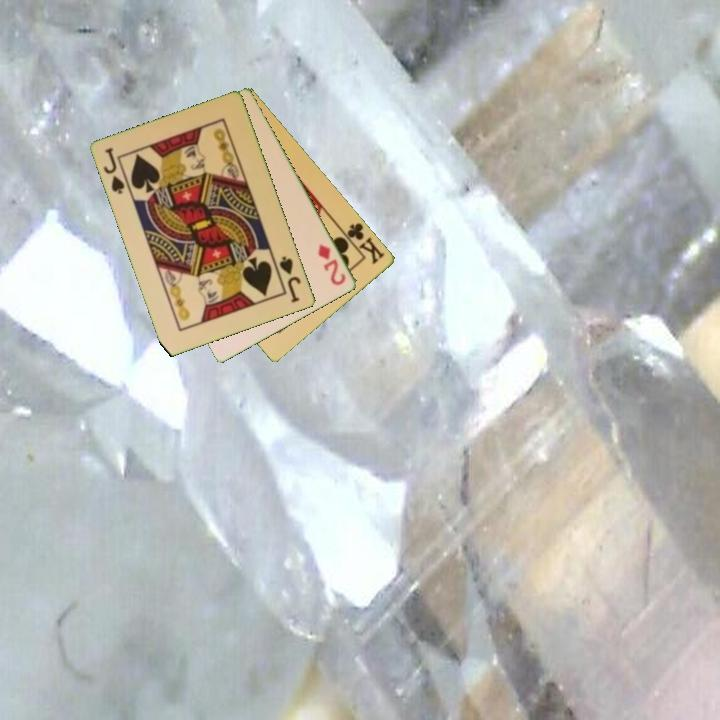2d: (315, 241, 349, 288)
Js: (276, 253, 304, 306), (100, 144, 128, 197)
Kc: (338, 219, 388, 267)
